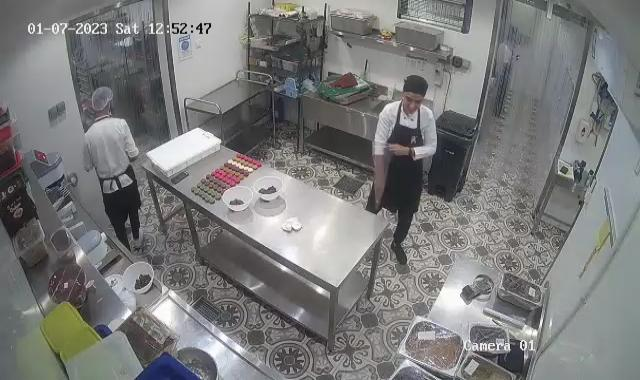hairnet: (91, 85, 114, 115)
no_hairnet: (401, 74, 428, 104)
